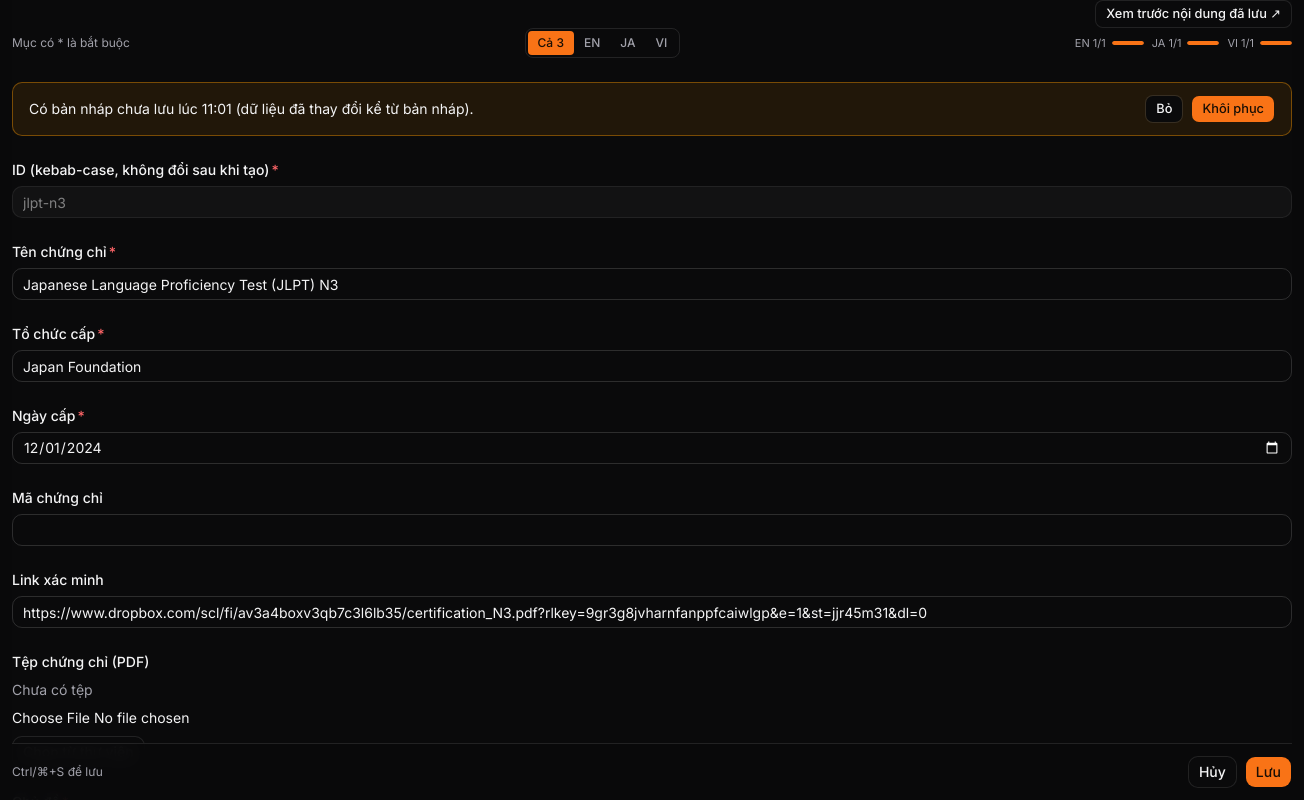
form and new server data › offers an unsaved draft and restores it
expect the text "Có bản nháp chưa lưu" is shown: met, box [29, 100, 198, 117]
expect the text "dữ liệu đã thay đổi kể từ bản nháp" is shown: met, box [232, 100, 470, 117]
Step 1. Click the button "Khôi phục" → click(1233, 109), box [1191, 95, 1275, 123]
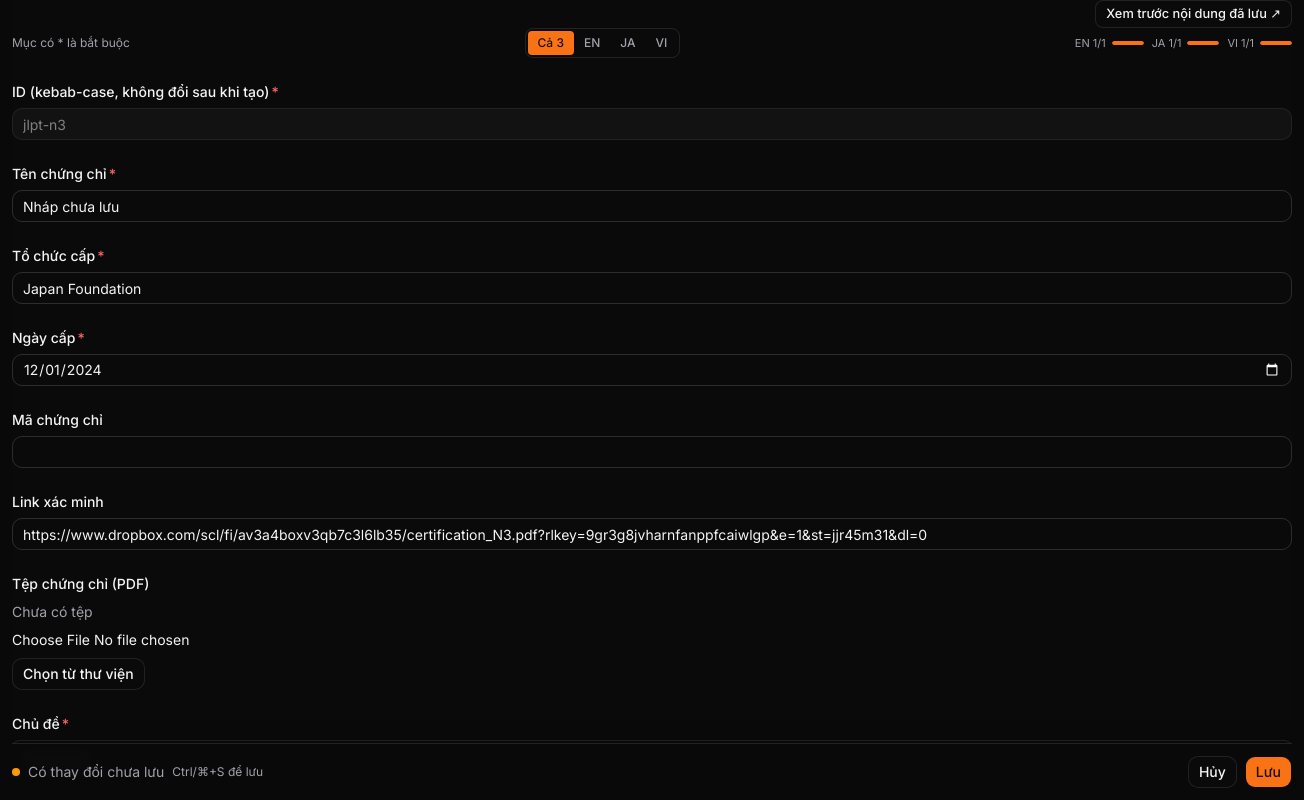
expect the field with id "field-organization" holds "Japan Foundation": met, box [12, 272, 1292, 304]
expect the field with id "field-name" holds "Nháp chưa lưu": met, box [12, 190, 1292, 222]
expect the text "Có bản nháp chưa lưu" is gone: met
